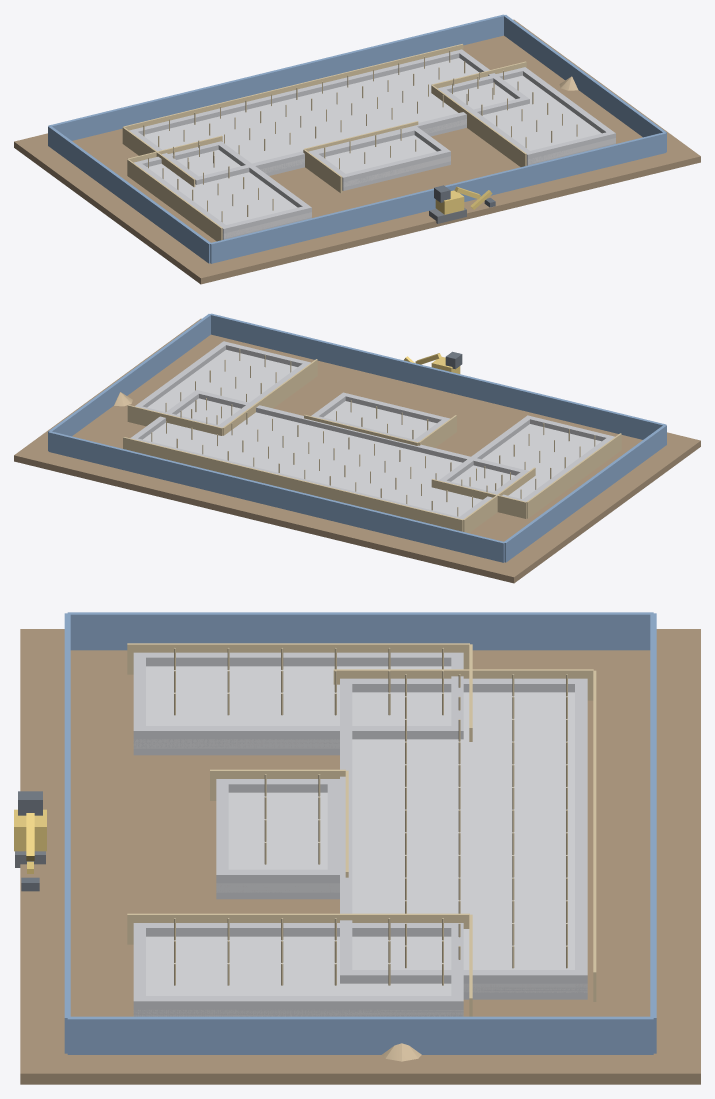
File: num-3-site.glb
The picture shows the model from 3 angles, top to bottom: view 1: azimuth 30°, elevation 25°; view 2: azimuth 150°, elevation 25°; view 3: azimuth 270°, elevation 25°; orthographic projection. The views are drawn at different scales.
Bounding box in the file's own units: 51 × 3.4 × 33.3.
